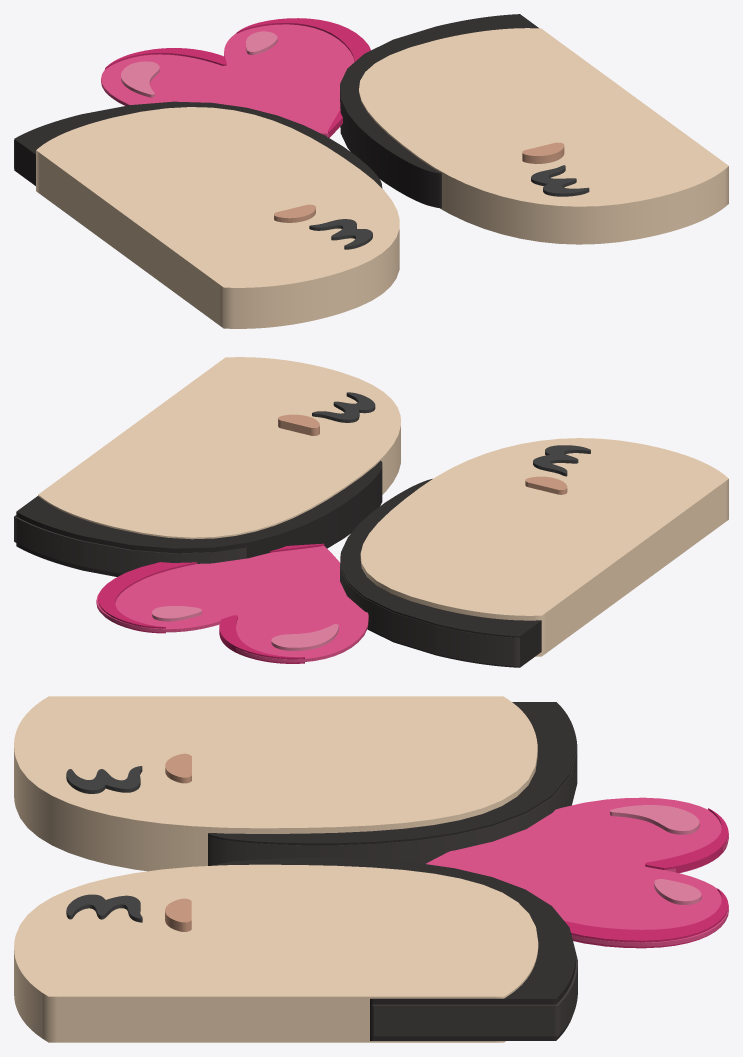
The model's file is emoji_u1f468_1f3fb_200d_2764_200d_1f48b_200d_1f468_1f3fb.glb.
The picture shows the model from 3 angles, top to bottom: view 1: azimuth 30°, elevation 25°; view 2: azimuth 150°, elevation 25°; view 3: azimuth 270°, elevation 25°; orthographic projection. The views are drawn at different scales.
Parts seen in each view (by area): view 1: emoji_u1f468_1f3fb_200d_2764_200d_1f48b_200d_1f468_1f3fb; view 2: emoji_u1f468_1f3fb_200d_2764_200d_1f48b_200d_1f468_1f3fb; view 3: emoji_u1f468_1f3fb_200d_2764_200d_1f48b_200d_1f468_1f3fb.
Boxes of the visible parts, x1,y1,x2,y2 form: emoji_u1f468_1f3fb_200d_2764_200d_1f48b_200d_1f468_1f3fb: (14, 14, 728, 328); emoji_u1f468_1f3fb_200d_2764_200d_1f48b_200d_1f468_1f3fb: (14, 357, 728, 667); emoji_u1f468_1f3fb_200d_2764_200d_1f48b_200d_1f468_1f3fb: (14, 696, 728, 1042).
Bounding box in the file's own units: 0.0336 × 0.0034 × 0.0339.
